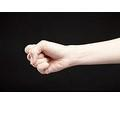gu-: (23, 39, 70, 76)
